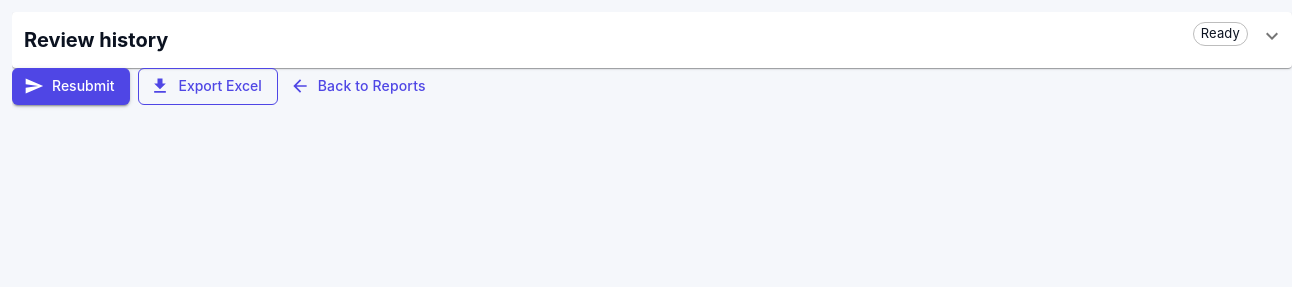
Test: ready revision with prior rejection history › shows a neutral current status and preserves the old rejection in en
Click the button "Review history": (96, 40) [12,12,1185,68]
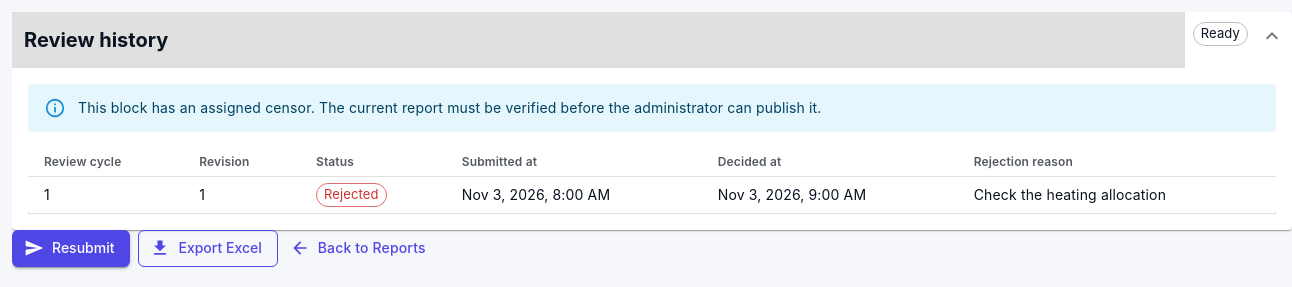
expect the button "Review history" is expanded: met, box [12,12,1185,68]
expect the text "Rejected" is shown: met, box [324,186,379,202]
expect the text "Check the heating allocation" is shown: met, box [974,186,1166,203]
